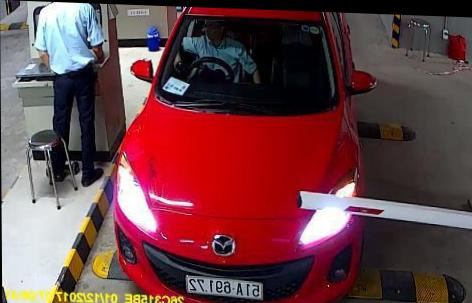License_Plate: (184, 271, 266, 303)
